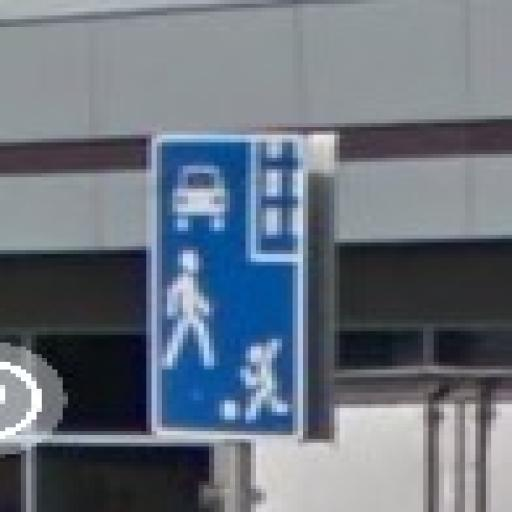traffic_sign: (142, 136, 315, 448)
